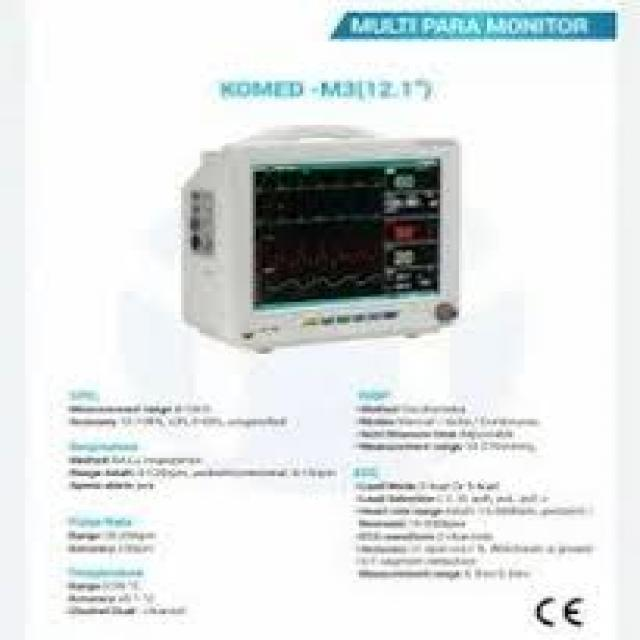cardiac_monitor: (194, 138, 478, 344)
